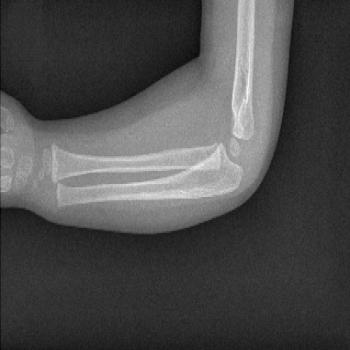Fracture: (220, 112, 250, 187)
